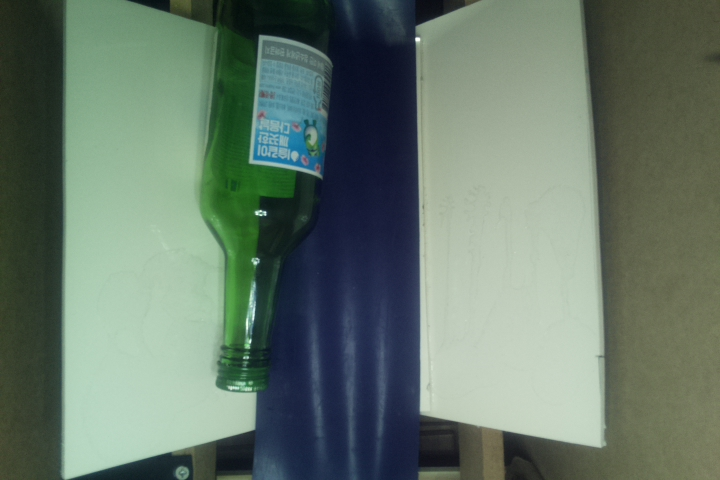soju: (198, 1, 336, 394)
